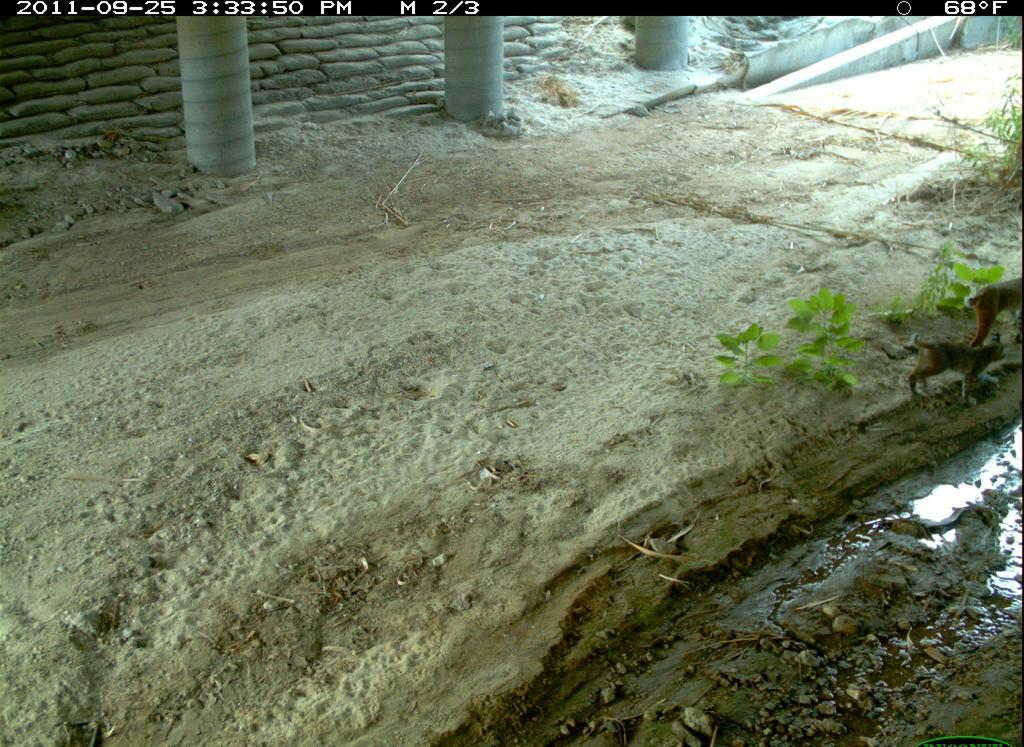bobcat: (886, 328, 1016, 413), (962, 271, 1023, 361)
